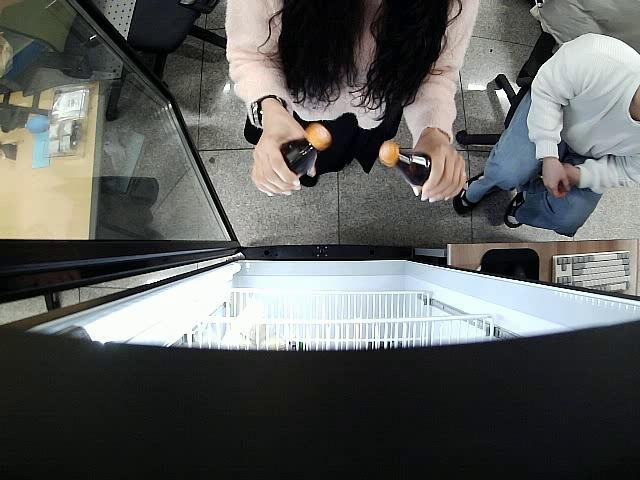17_vita500: (278, 125, 330, 175), (378, 140, 431, 186)
